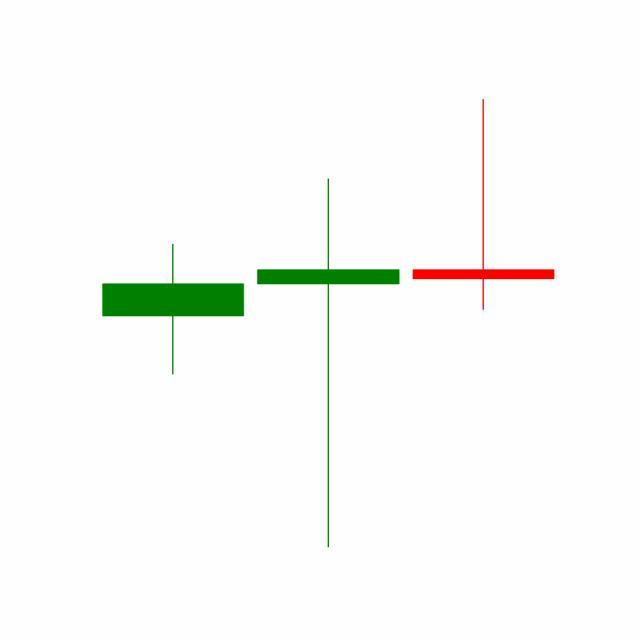Spinning Top: (250, 175, 407, 553)
